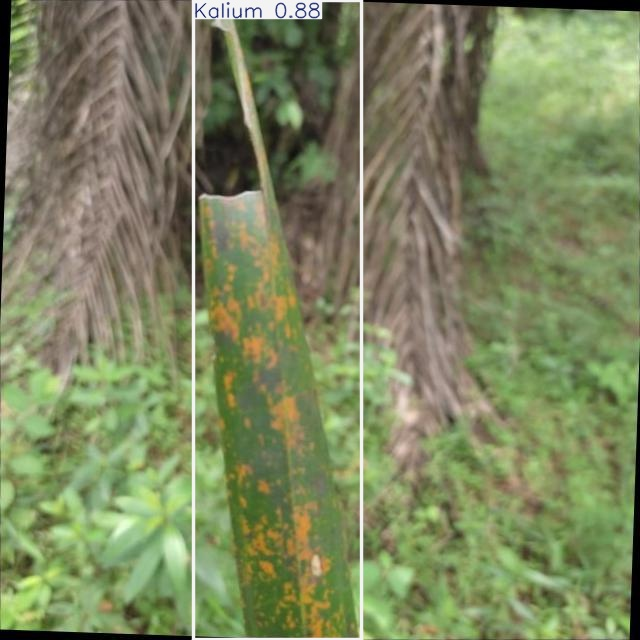Kalium: (193, 0, 362, 639)
